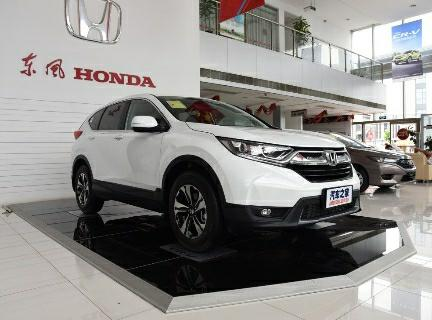car: (53, 81, 374, 256)
